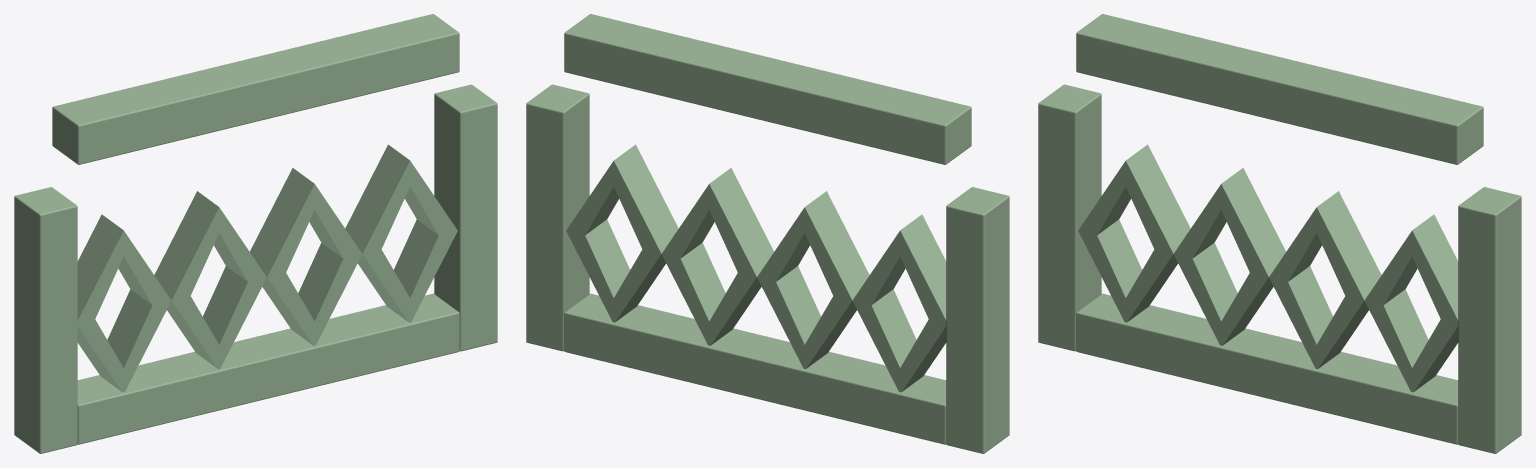
The model's file is source-edit.glb.
The picture shows the model from 3 angles, left to right: view 1: azimuth 30°, elevation 25°; view 2: azimuth 150°, elevation 25°; view 3: azimuth 330°, elevation 25°; orthographic projection.
Visible parts, largest first — view 1: VENT_FrameTop, VENT_FrameBottom, VENT_FrameSide, VENT_FrameSide.001, VENT_Diamond_1_0, VENT_Diamond_3_0, VENT_Diamond_2_0, VENT_Diamond_0_0, VENT_Diamond_2_2, VENT_Diamond_3_2, VENT_Diamond_1_2, VENT_Diamond_0_2 (+8 smaller); view 2: VENT_FrameTop, VENT_FrameBottom, VENT_FrameSide, VENT_FrameSide.001, VENT_Diamond_1_0, VENT_Diamond_3_0, VENT_Diamond_2_0, VENT_Diamond_0_0, VENT_Diamond_2_2, VENT_Diamond_3_2, VENT_Diamond_1_2, VENT_Diamond_0_2 (+8 smaller); view 3: VENT_FrameTop, VENT_FrameBottom, VENT_FrameSide.001, VENT_FrameSide, VENT_Diamond_0_1, VENT_Diamond_2_1, VENT_Diamond_1_1, VENT_Diamond_3_1, VENT_Diamond_1_3, VENT_Diamond_0_3, VENT_Diamond_2_3, VENT_Diamond_3_3 (+8 smaller).
Part boxes in pixels (x1=…): VENT_FrameTop: x1=52, y1=14, x2=459, y2=164; VENT_FrameBottom: x1=77, y1=293, x2=459, y2=444; VENT_FrameSide: x1=14, y1=187, x2=77, y2=453; VENT_FrameSide.001: x1=434, y1=84, x2=497, y2=351; VENT_Diamond_1_0: x1=154, y1=191, x2=219, y2=300; VENT_Diamond_3_0: x1=345, y1=144, x2=410, y2=253; VENT_Diamond_2_0: x1=250, y1=168, x2=314, y2=277; VENT_Diamond_0_0: x1=77, y1=214, x2=123, y2=323; VENT_Diamond_2_2: x1=298, y1=243, x2=362, y2=345; VENT_Diamond_3_2: x1=394, y1=219, x2=457, y2=322; VENT_Diamond_1_2: x1=203, y1=266, x2=266, y2=368; VENT_Diamond_0_2: x1=107, y1=289, x2=170, y2=391; VENT_FrameTop: x1=564, y1=14, x2=971, y2=164; VENT_FrameBottom: x1=564, y1=293, x2=946, y2=444; VENT_FrameSide: x1=946, y1=187, x2=1009, y2=453; VENT_FrameSide.001: x1=526, y1=84, x2=589, y2=351; VENT_Diamond_1_0: x1=804, y1=191, x2=869, y2=300; VENT_Diamond_3_0: x1=613, y1=144, x2=678, y2=253; VENT_Diamond_2_0: x1=709, y1=168, x2=773, y2=277; VENT_Diamond_0_0: x1=900, y1=214, x2=946, y2=323; VENT_Diamond_2_2: x1=661, y1=243, x2=725, y2=345; VENT_Diamond_3_2: x1=566, y1=219, x2=629, y2=322; VENT_Diamond_1_2: x1=757, y1=266, x2=820, y2=368; VENT_Diamond_0_2: x1=853, y1=289, x2=916, y2=391; VENT_FrameTop: x1=1076, y1=14, x2=1483, y2=164; VENT_FrameBottom: x1=1076, y1=293, x2=1458, y2=444; VENT_FrameSide.001: x1=1458, y1=187, x2=1521, y2=453; VENT_FrameSide: x1=1038, y1=84, x2=1101, y2=351; VENT_Diamond_0_1: x1=1125, y1=144, x2=1190, y2=253; VENT_Diamond_2_1: x1=1316, y1=191, x2=1381, y2=300; VENT_Diamond_1_1: x1=1221, y1=168, x2=1285, y2=277; VENT_Diamond_3_1: x1=1412, y1=214, x2=1458, y2=323; VENT_Diamond_1_3: x1=1173, y1=243, x2=1237, y2=345; VENT_Diamond_0_3: x1=1078, y1=219, x2=1141, y2=322; VENT_Diamond_2_3: x1=1269, y1=266, x2=1332, y2=368; VENT_Diamond_3_3: x1=1365, y1=289, x2=1428, y2=391.
Bounding box in the file's own units: 1.2 × 0.8 × 0.12.
